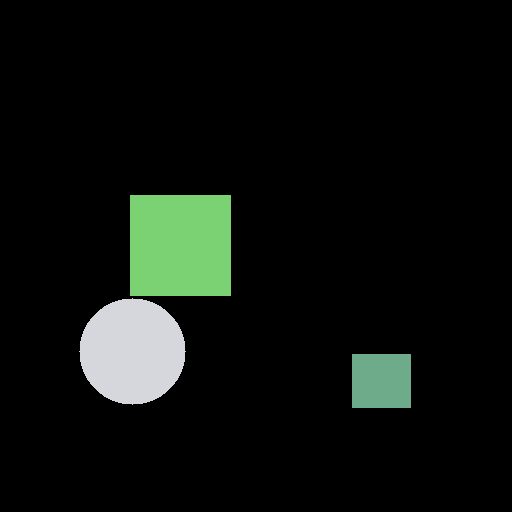circle: (79, 298, 185, 404)
square: (130, 195, 230, 295), (352, 354, 410, 407)
